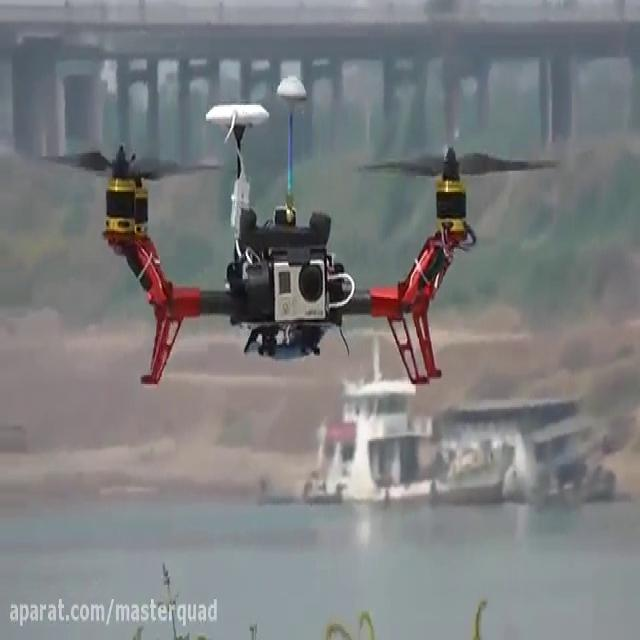drone: (35, 69, 562, 393)
